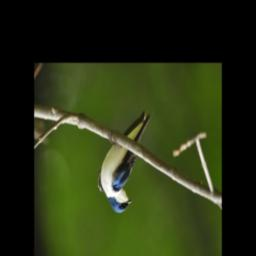Swallow: (97, 110, 152, 214)
